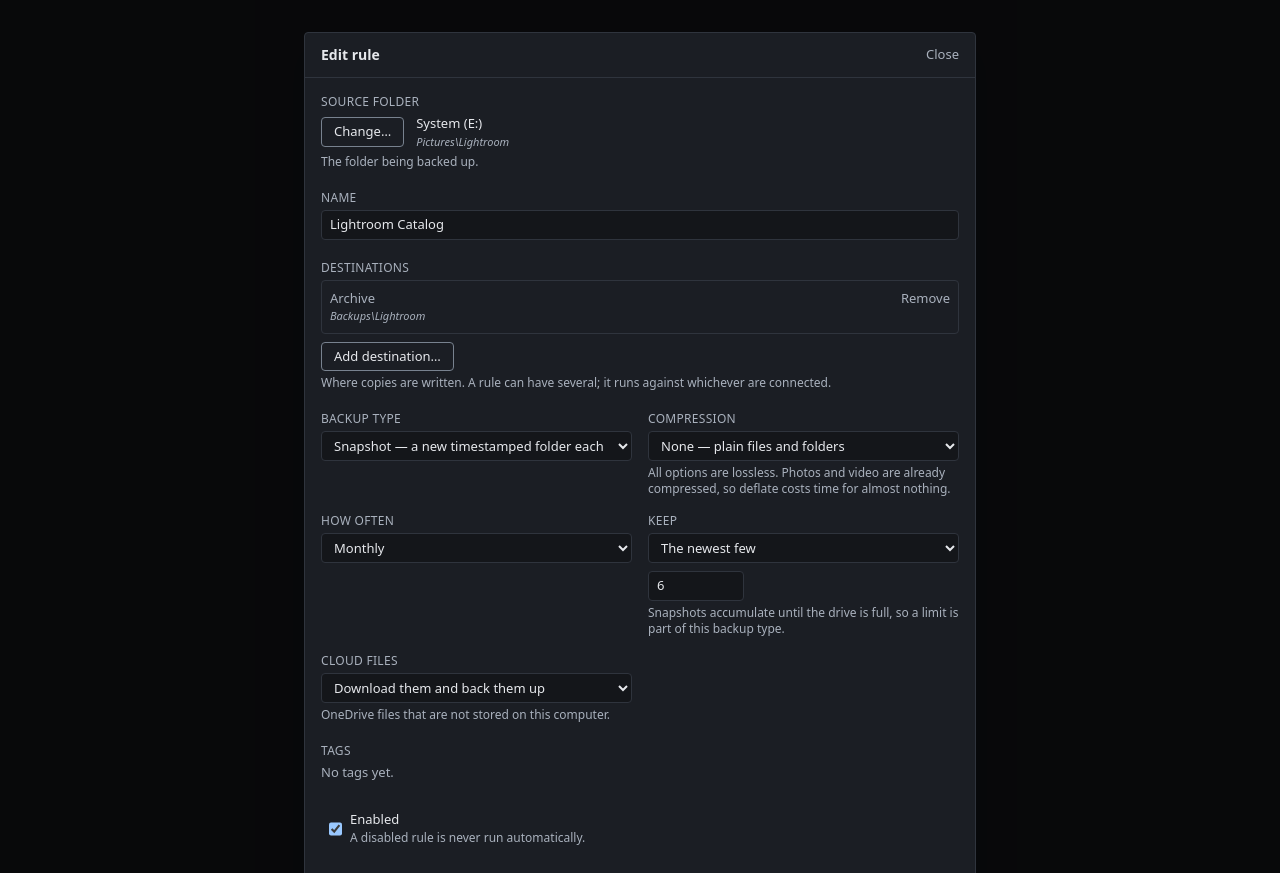
RuleEditor destinations › names the drive of a destination as soon as it is picked
The width and height of the screenshot is (1280, 873).
Click the button "Add destination…" at coordinates (387, 356), box [321,342,454,371]
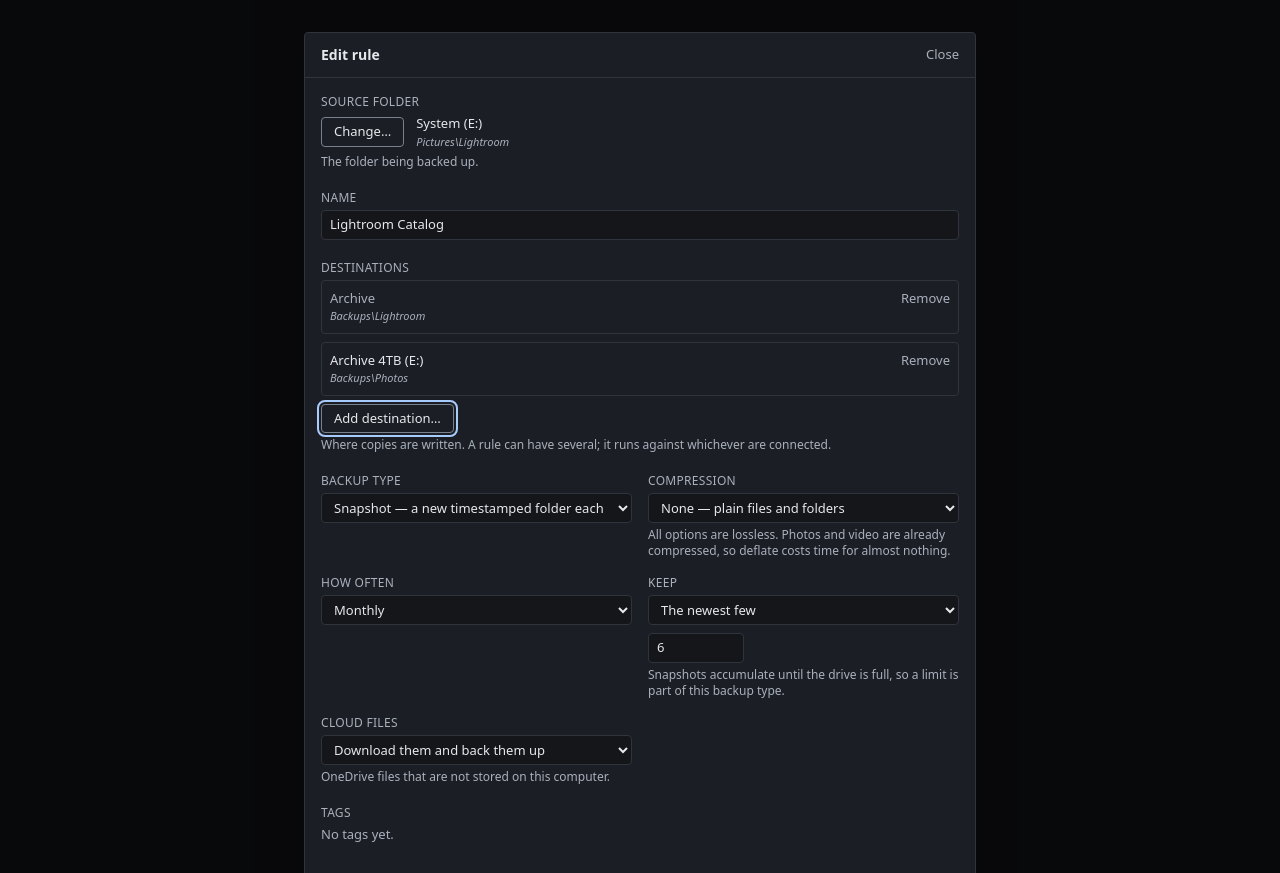
Result: the text "Archive 4TB (E:)" is shown at [330,350,423,370]
Result: the text "Backups\\Photos" is shown at [330,370,408,385]
